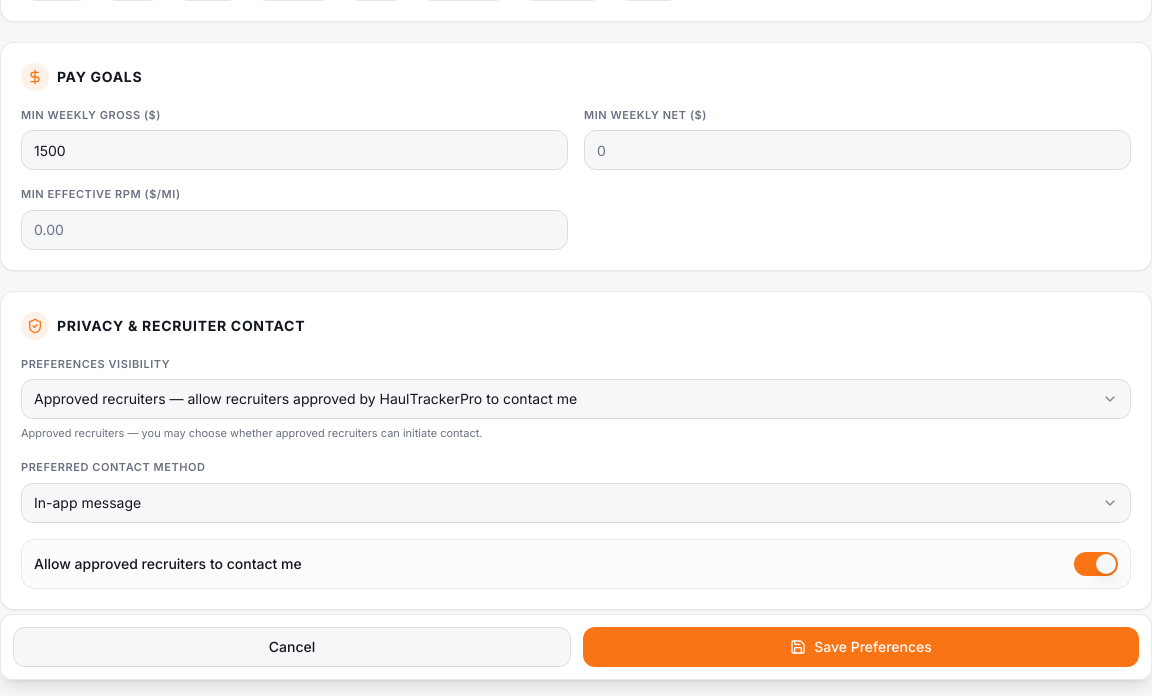
Test case: Phase 1N-C · Fail-closed recruiter-contact privacy › switching verified_recruiters → private clears + disables contact
(page scrolled)
Expected: the switch named "Allow approved recruiters to contact me" is enabled, 1074,552 -> 1118,576
What coordinates should you click on to do the following:
click the 1st dropdown
I would click on:
 (576, 399)
Its box is 21,379 -> 1131,419.
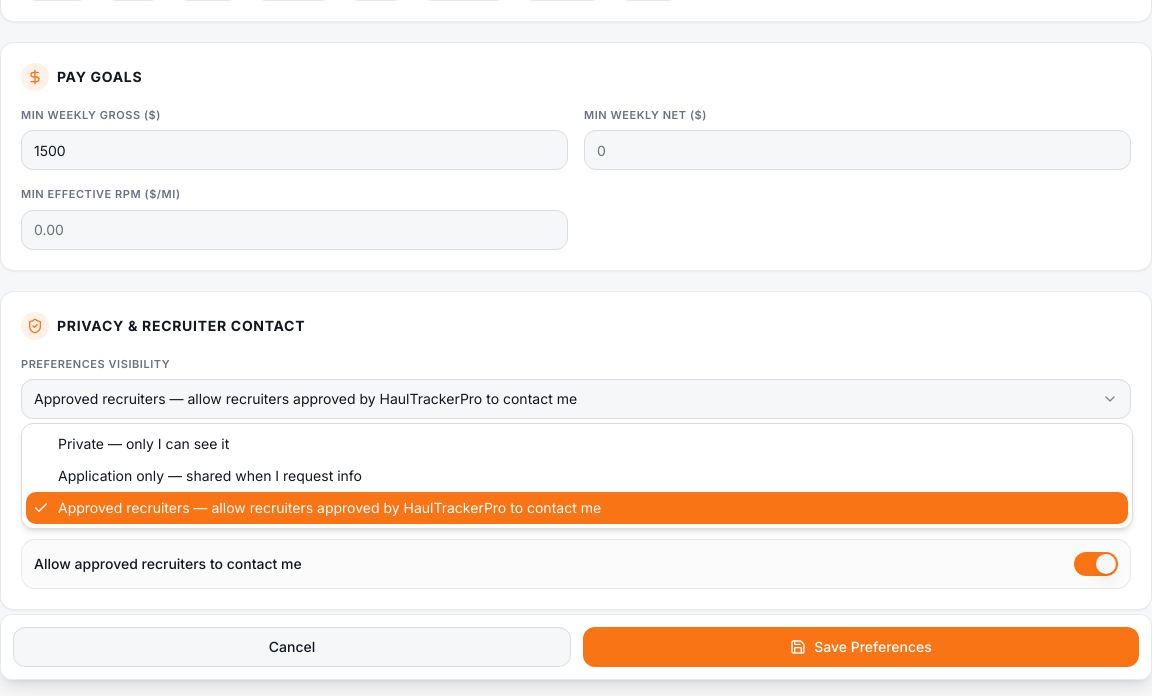
What coordinates should you click on to do the following:
click the option "Private — only I can see it"
I would click on:
 (144, 444)
Its box is 58,435 -> 229,452.
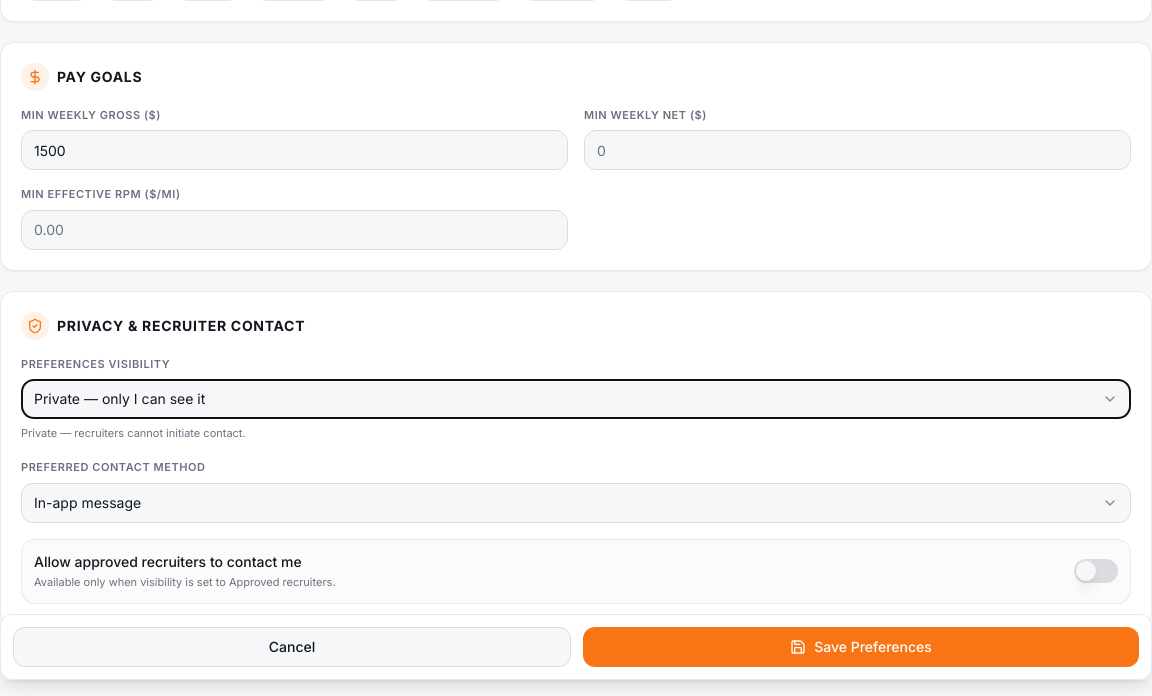
Result: the switch named "Allow approved recruiters to contact me" is disabled at 1074,559 -> 1118,583
